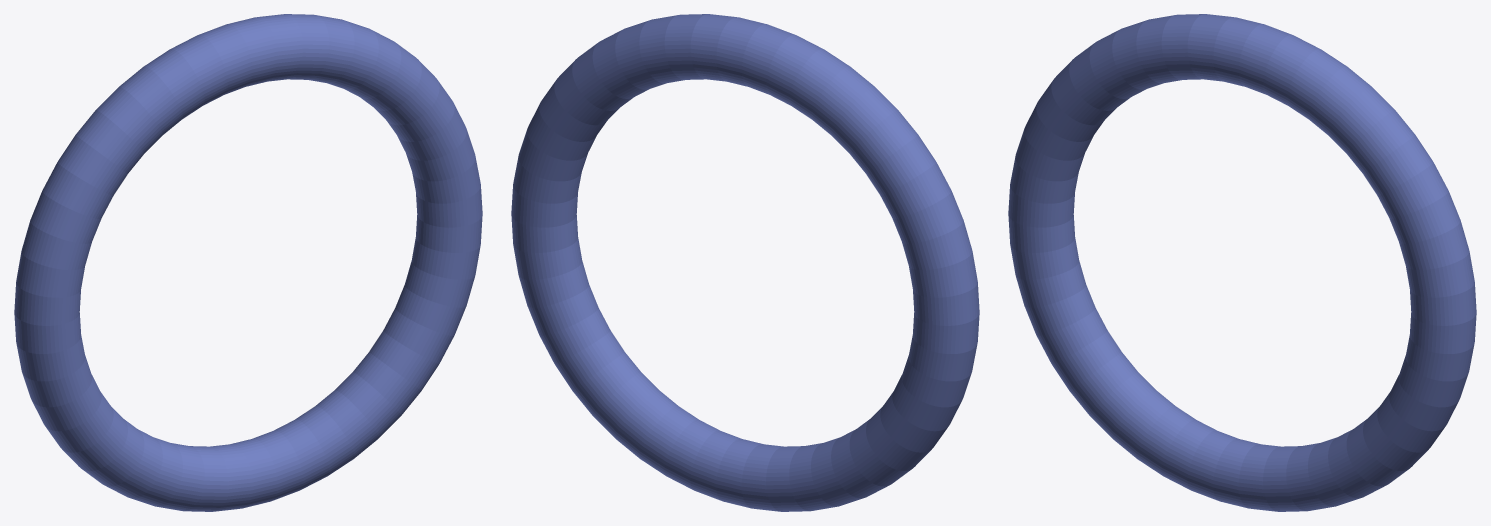
The picture shows the model from 3 angles, left to right: view 1: azimuth 30°, elevation 25°; view 2: azimuth 150°, elevation 25°; view 3: azimuth 330°, elevation 25°; orthographic projection.
Parts seen in each view (by area): view 1: world; view 2: world; view 3: world.
Part boxes in pixels (x1,y1,x2,y2): world: (14,14,482,511); world: (511,14,979,511); world: (1008,14,1476,511).
Bounding box in the file's own units: 20.53 × 20.49 × 2.53.
